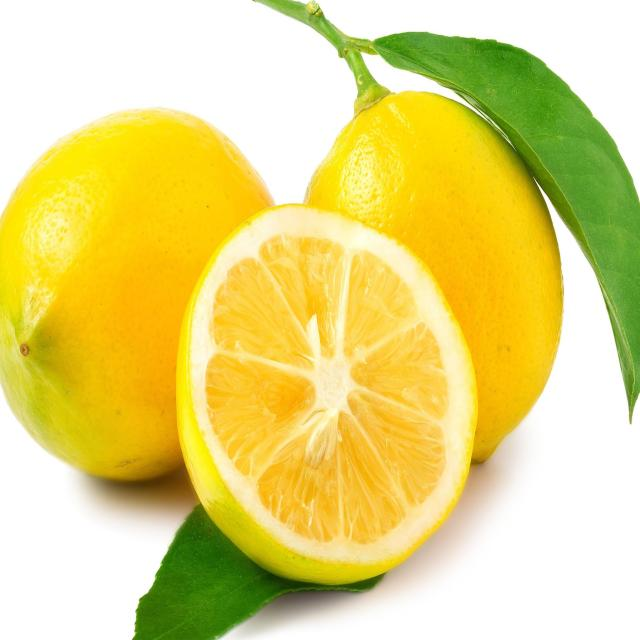lemon: (169, 198, 483, 592)
